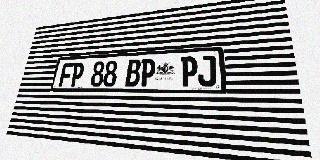8: (102, 60, 119, 87), (90, 61, 106, 87)
B: (125, 59, 141, 87)
F: (58, 63, 74, 87)
J: (198, 55, 216, 86)
P: (180, 56, 198, 86), (139, 58, 156, 87), (69, 62, 85, 87)
